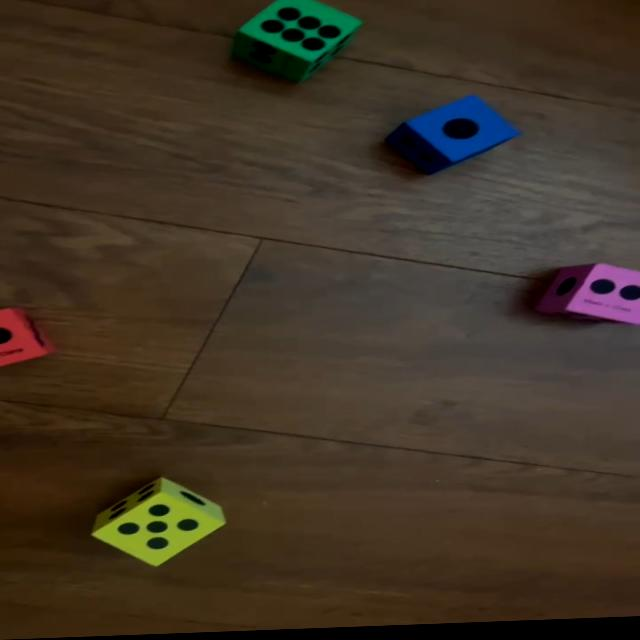blue_block: (389, 100, 519, 178)
red_block: (0, 306, 52, 369)
